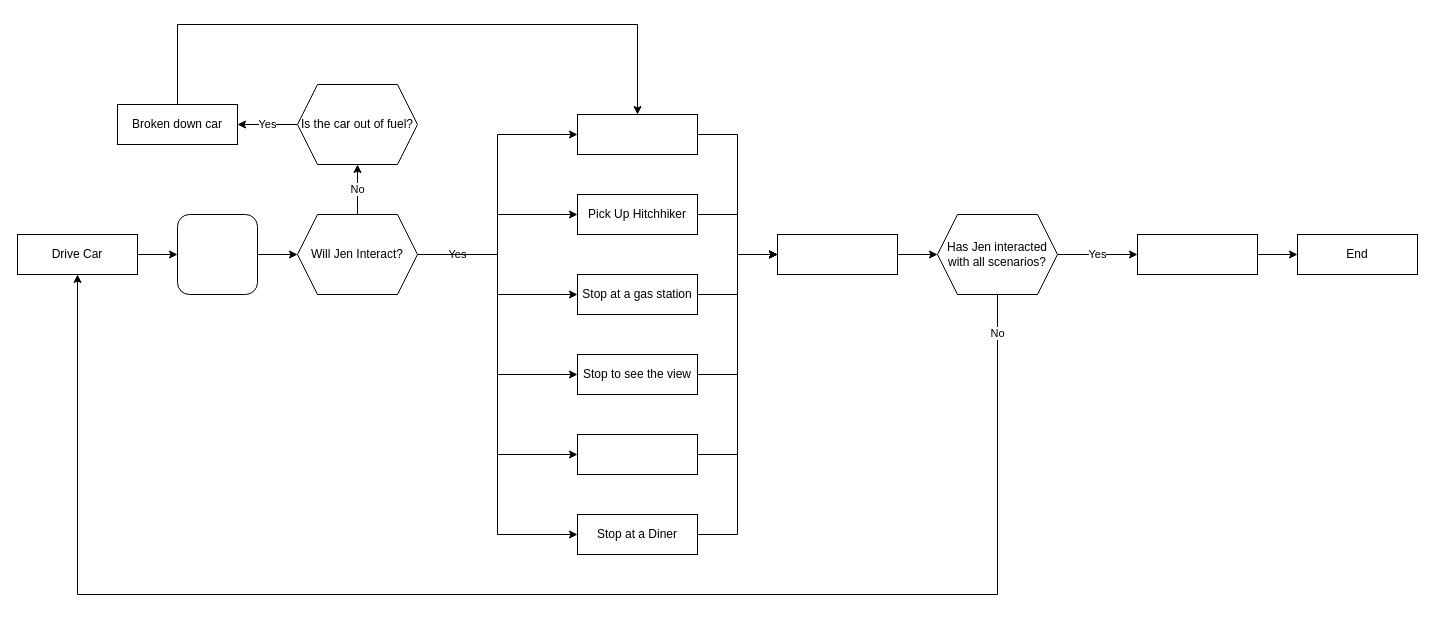
Image size: 1435x620. Some labels were removed from this diagram. The box of each missing label's shape, as (x1, y1, x2, y2) in pixels:
Arrive at Mysterious Town: (1136, 234, 1258, 274)
Interaction/Dialogue Occurs: (776, 234, 898, 274)
Random Encounter: (176, 214, 258, 294)
Stop at an Motel: (576, 434, 698, 474)
Stopped/Helped by police: (576, 114, 698, 154)
